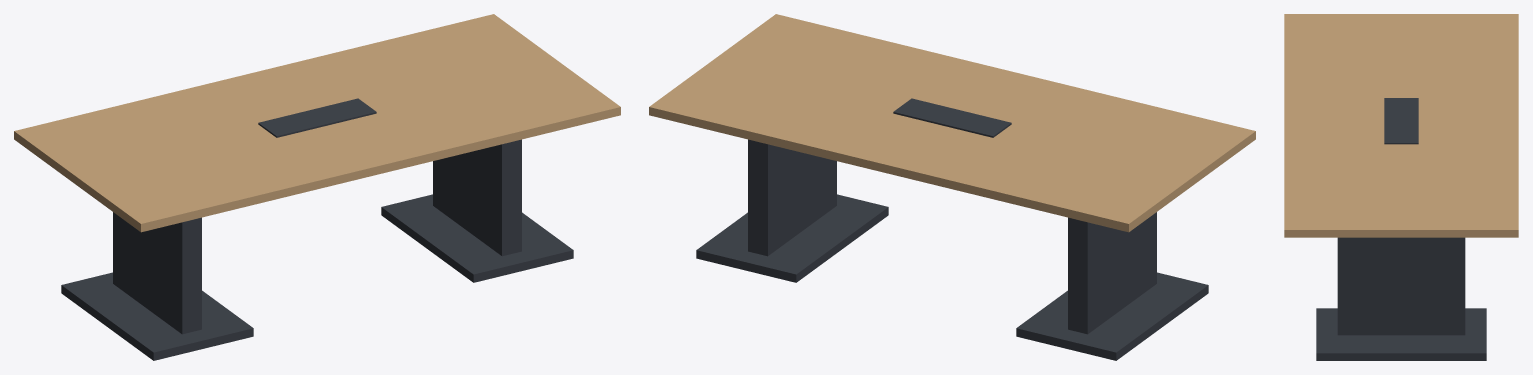
File: mesa-reuniao.glb
3 views of the same model, side by side, from view 1: azimuth 30°, elevation 25°; view 2: azimuth 150°, elevation 25°; view 3: azimuth 270°, elevation 25° (orthographic). The views are drawn at different scales.
Parts seen in each view (by area): view 1: meetingTable; view 2: meetingTable; view 3: meetingTable.
Boxes of the visible parts, <box> form: meetingTable: <box>14,14,620,360</box>; meetingTable: <box>649,14,1255,360</box>; meetingTable: <box>1284,14,1518,360</box>.
Size of the model in its own units: 2.4 by 0.758 by 1.1.
